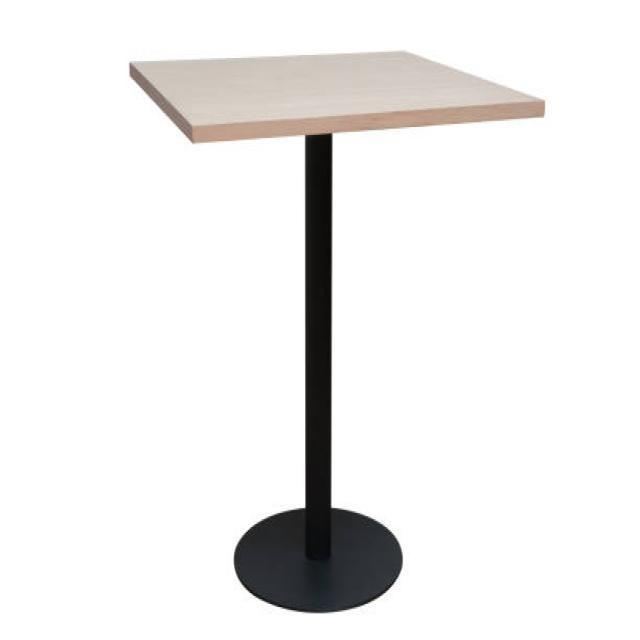table: (127, 46, 546, 614)
